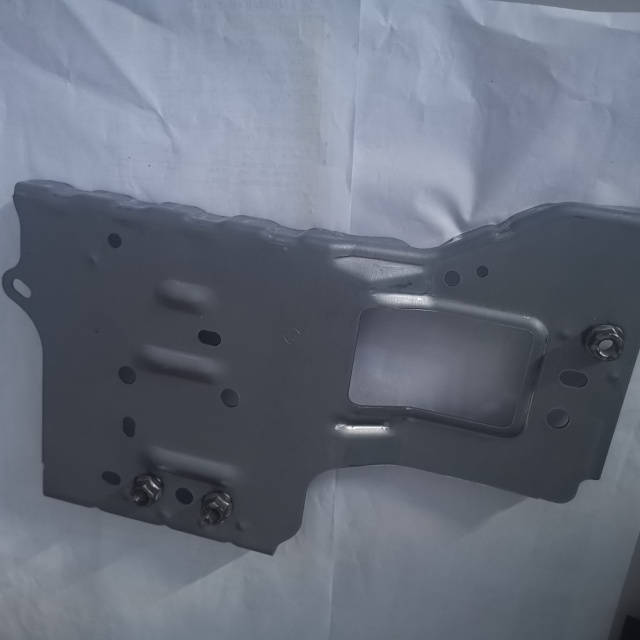dog: (579, 320, 627, 365), (197, 487, 233, 529), (127, 471, 166, 509)
